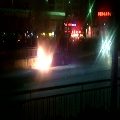fire: (32, 46, 52, 70)
